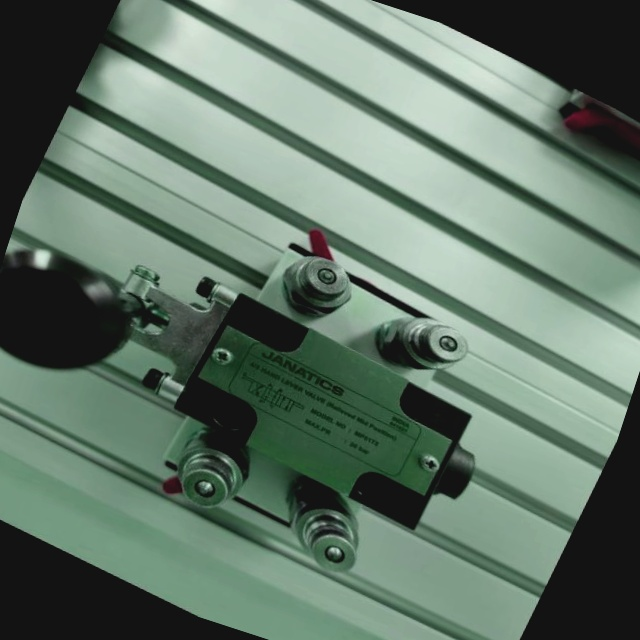4by3 hand lever valve: (0, 94, 574, 640)
